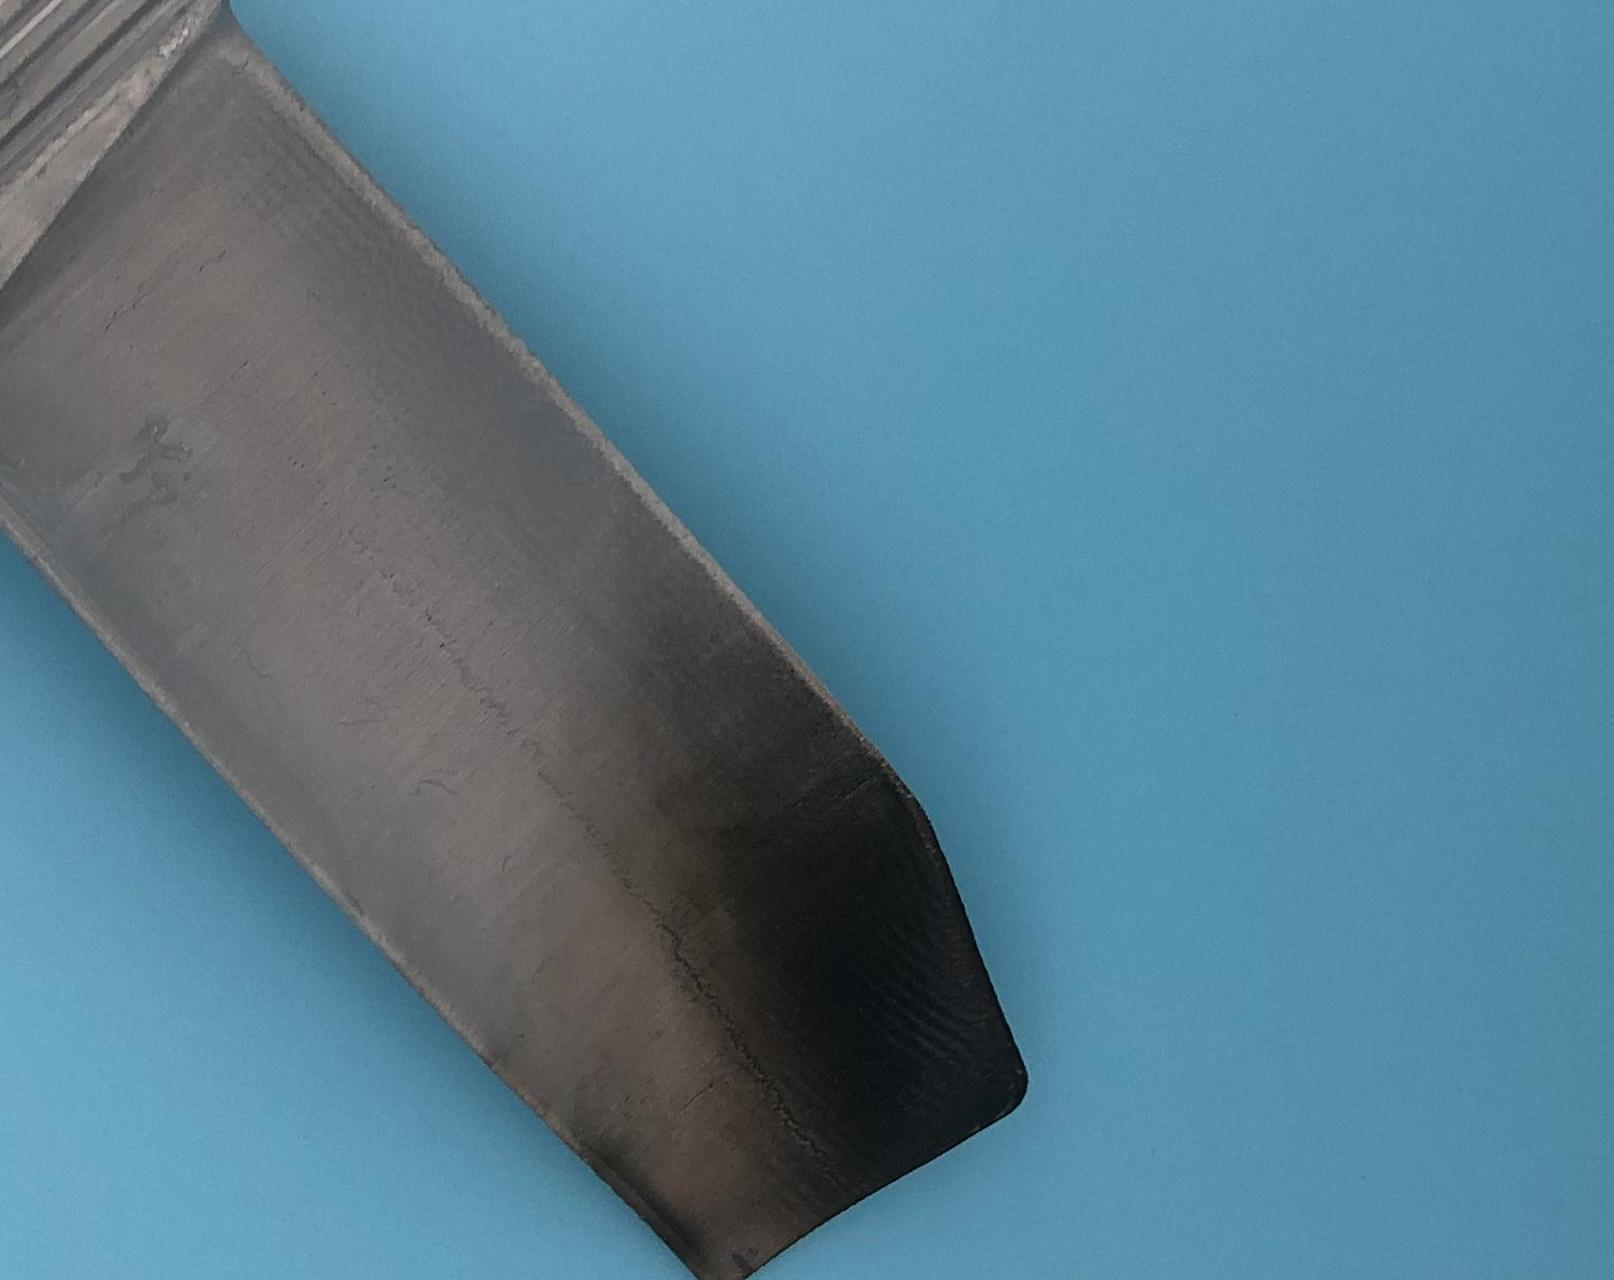ablation: (652, 706, 1013, 1121)
